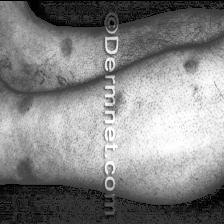Non-Cancerous Skin Condition: (0, 26, 78, 176), (177, 16, 224, 113)
